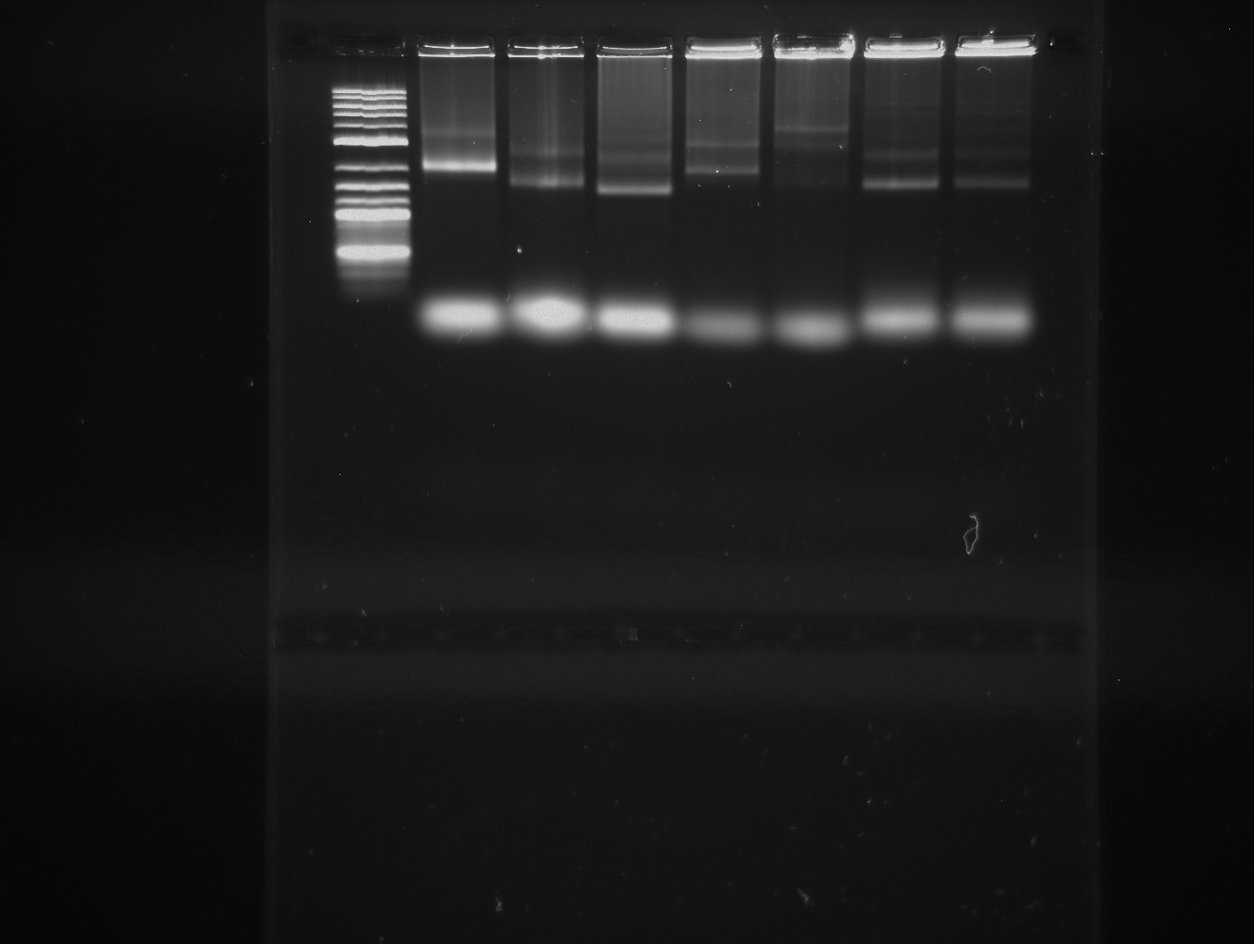Lane: (422, 16, 518, 944), (864, 30, 949, 944), (772, 35, 852, 944), (509, 21, 587, 944), (599, 16, 675, 929), (959, 35, 1034, 944), (689, 30, 760, 944)
ladder: (323, 25, 416, 944)
